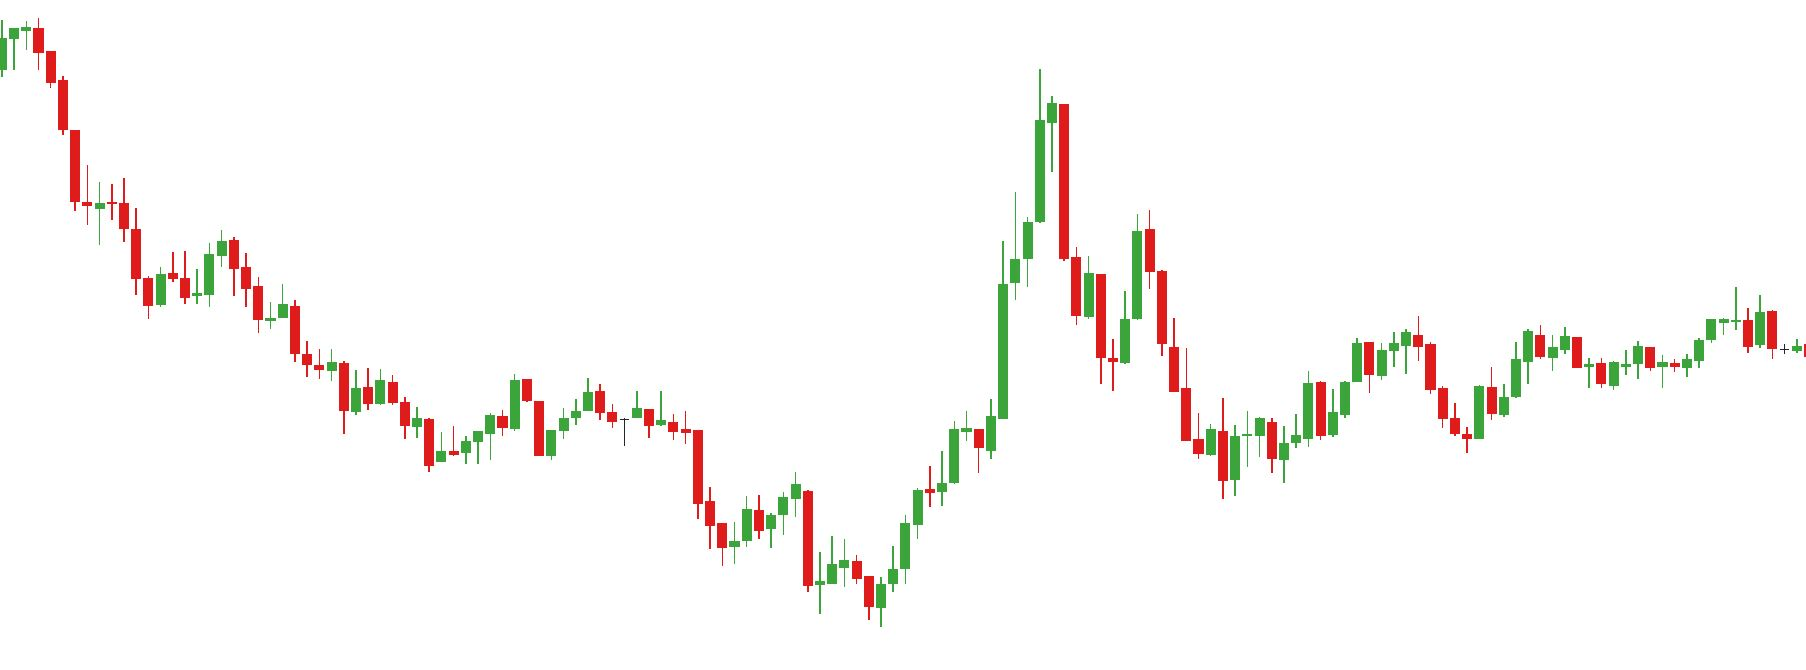buy: (815, 563, 887, 635)
sell: (168, 229, 238, 288)
